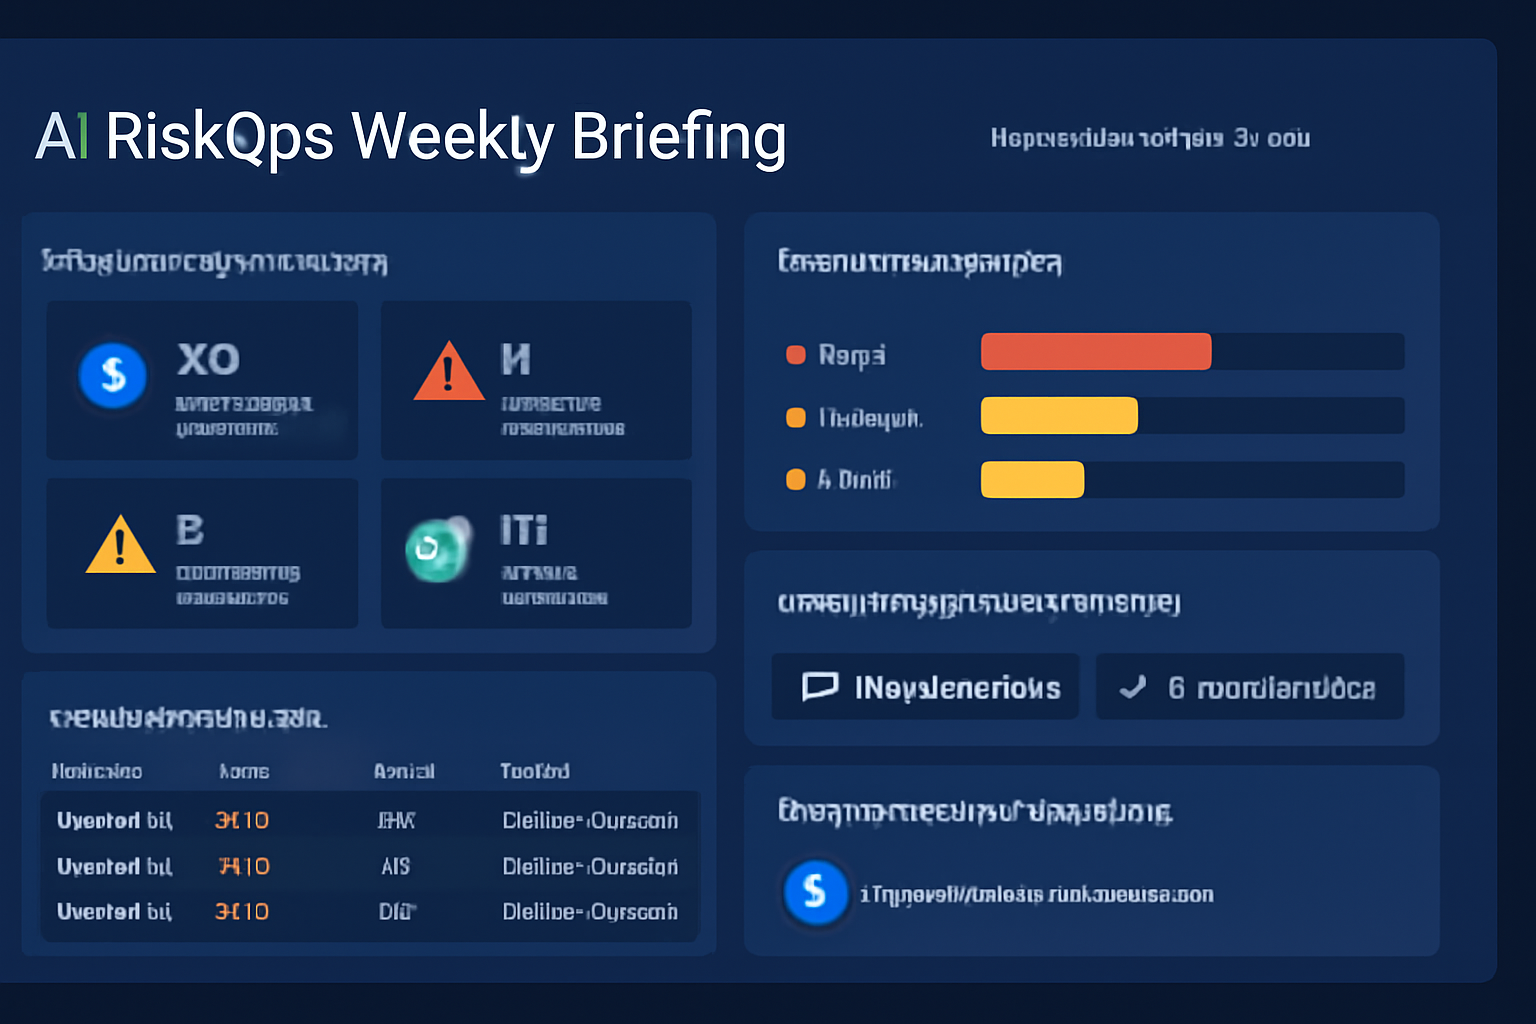

The dashboard page shown, as its layout file describes it:
{"tool":"powerbi","page":{"name":"AI Monitoring","canvas":[1280,720],"ordinal":4},"visuals":[{"type":"textbox","box":[10,0,301.2,61.2],"z":0},{"type":"cardVisual","fields":{"Data":["_Measures.Average Confidence","_Measures.Confidence Coverage","_Measures.Low Confidence Customers","_Measures.Average Risk Score"]},"box":[0,118.8,1280,120],"z":1000},{"type":"clusteredColumnChart","title":"Customers by Confidence Band","fields":{"Category":["Risk_Customers.Confidence Band"],"Y":["_Measures.Total Customers"]},"box":[0,238.8,378.8,258.8],"z":2000},{"type":"clusteredBarChart","title":"Average Risk Score by Risk Level","fields":{"Category":["Risk_Customers.risk_level"],"Y":["Avg(Risk_Customers.risk_score)"]},"box":[378.8,238.8,397.5,258.8],"z":3000},{"type":"tableEx","title":"Monitoring Details","fields":{"Values":["Risk_Customers.Customer Alias","Risk_Customers.risk_level","Risk_Customers.risk_score","Risk_Customers.confidence","Risk_Customers.Confidence Band","Risk_Customers.top_reasons"]},"box":[0,497.5,1136.2,222.5],"z":4000},{"type":"pageNavigator","box":[0,61.2,1280,52.5],"z":5000},{"type":"slicer","title":"Risk Level Filter","fields":{"Values":["Risk_Customers.risk_level"]},"box":[1126.2,497.5,153.8,222.5],"z":6000},{"type":"slicer","fields":{"Values":["Risk Score Threshold.Risk Score Threshold"]},"box":[776.2,238.8,503.8,121.2],"z":7000},{"type":"cardVisual","fields":{"Data":["_Measures.Selected Risk Threshold","_Measures.Customers Above Threshold","_Measures.Customers Above Threshold %"]},"box":[776.2,360,503.8,137.5],"z":8000}]}

Visuals, with their boxes on the page's 1280x720 design canvas (x1, y1, x2, y2). These are canvas units, not pixel positions in the 1536x1024 screenshot, which may show the page scaled, cropped or inside an application window:
textbox: bbox=[10, 0, 311, 61]
cardVisual - _Measures.Average Confidence x _Measures.Confidence Coverage: bbox=[0, 119, 1280, 239]
"Customers by Confidence Band" clusteredColumnChart: bbox=[0, 239, 379, 498]
"Average Risk Score by Risk Level" clusteredBarChart: bbox=[379, 239, 776, 498]
"Monitoring Details" tableEx: bbox=[0, 498, 1136, 720]
pageNavigator: bbox=[0, 61, 1280, 114]
"Risk Level Filter" slicer: bbox=[1126, 498, 1280, 720]
slicer - Risk Score Threshold.Risk Score Threshold: bbox=[776, 239, 1280, 360]
cardVisual - _Measures.Selected Risk Threshold x _Measures.Customers Above Threshold: bbox=[776, 360, 1280, 498]
